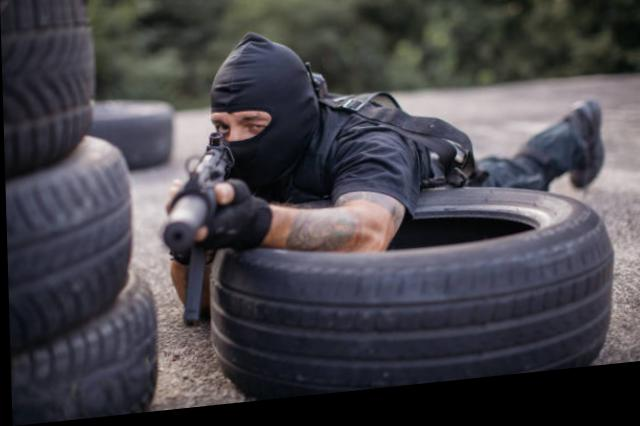other: (184, 43, 556, 238)
